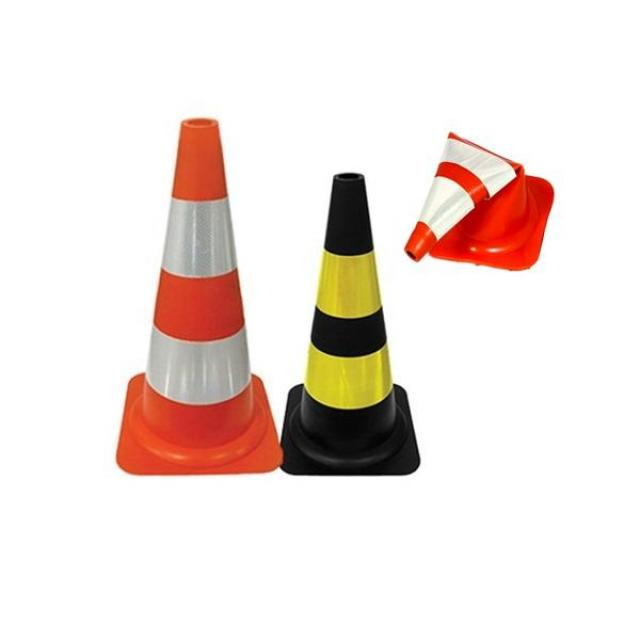cone: (136, 116, 266, 458), (282, 169, 423, 448)
